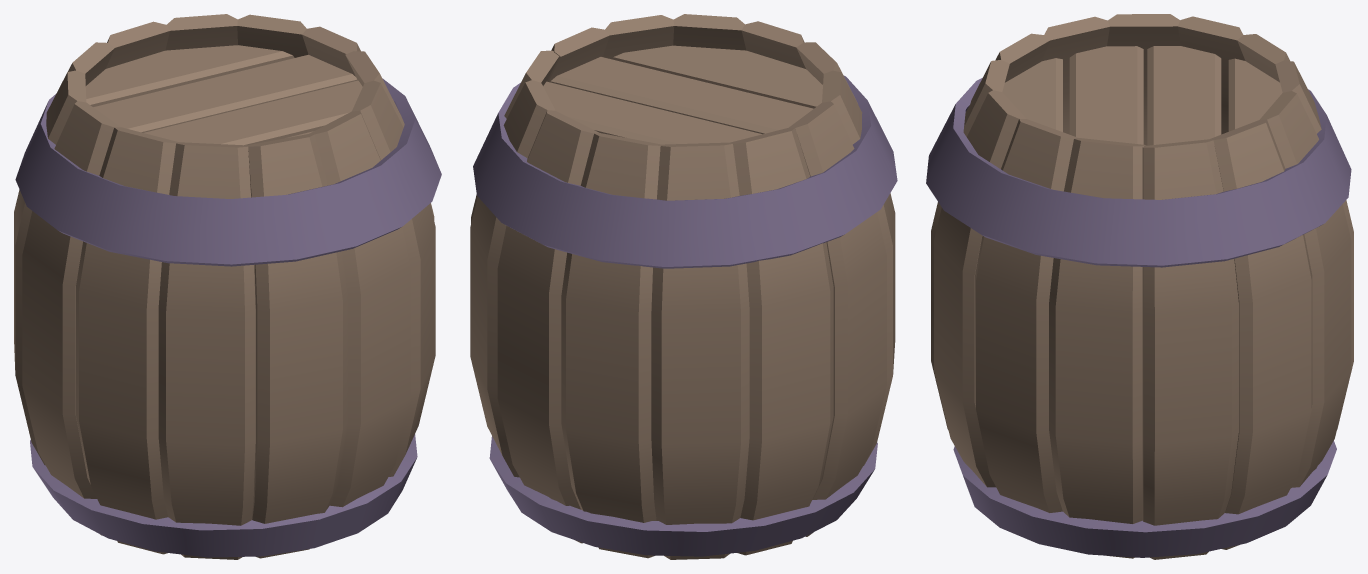
File: barrel purple.fbx
3 views of the same model, side by side, from view 1: azimuth 30°, elevation 25°; view 2: azimuth 150°, elevation 25°; view 3: azimuth 270°, elevation 25° (orthographic).
Parts seen in each view (by area): view 1: pasted__polySurface65; view 2: pasted__polySurface65; view 3: pasted__polySurface65.
Part boxes in pixels (x1=…): pasted__polySurface65: x1=14, y1=14, x2=441, y2=559; pasted__polySurface65: x1=470, y1=14, x2=897, y2=559; pasted__polySurface65: x1=926, y1=14, x2=1353, y2=559.
Size of the model in its own units: 1.56 by 1.67 by 1.57.
